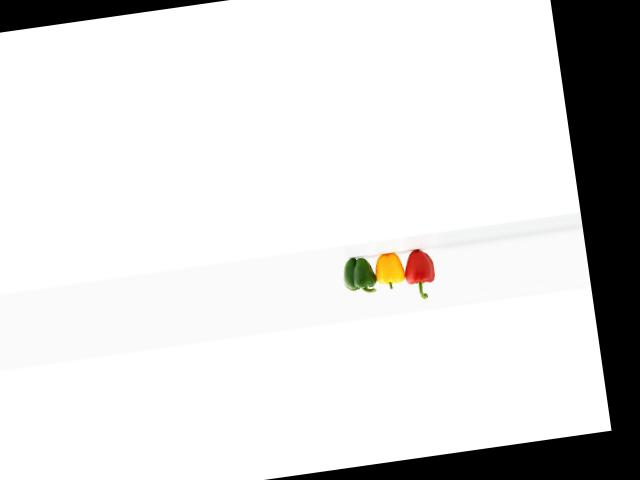bell_pepper: (398, 241, 447, 304)
